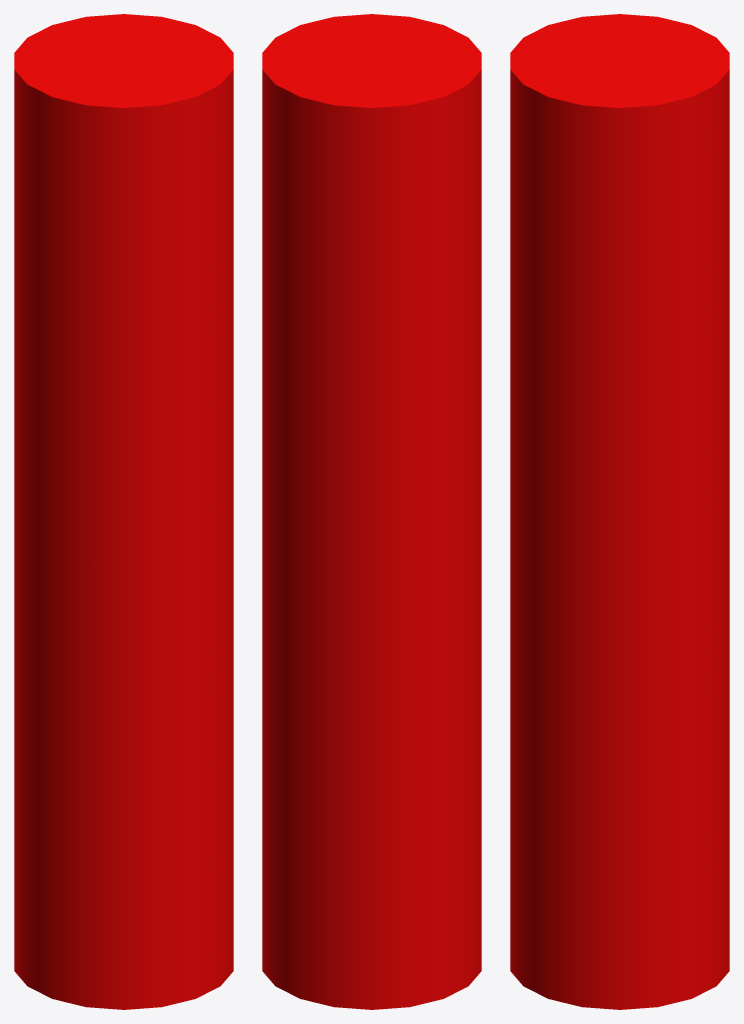
The model's file is debugstick.fbx.
3 renders of one model, left to right at view 1: azimuth 30°, elevation 25°; view 2: azimuth 150°, elevation 25°; view 3: azimuth 270°, elevation 25°, orthographic.
Parts seen in each view (by area): view 1: Cylinder001; view 2: Cylinder001; view 3: Cylinder001.
Boxes of the visible parts, x1,y1,x2,y2 form: Cylinder001: (14,14,233,1009); Cylinder001: (262,14,481,1009); Cylinder001: (510,14,729,1009).
Bounding box in the file's own units: 28.78 × 28.35 × 129.
1 material, 1 textured.
